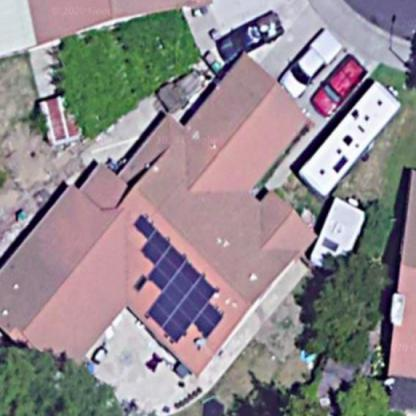car: (297, 60, 410, 200), (311, 41, 370, 116), (284, 24, 337, 101), (210, 9, 286, 62)
solar_panel: (112, 203, 227, 351)
